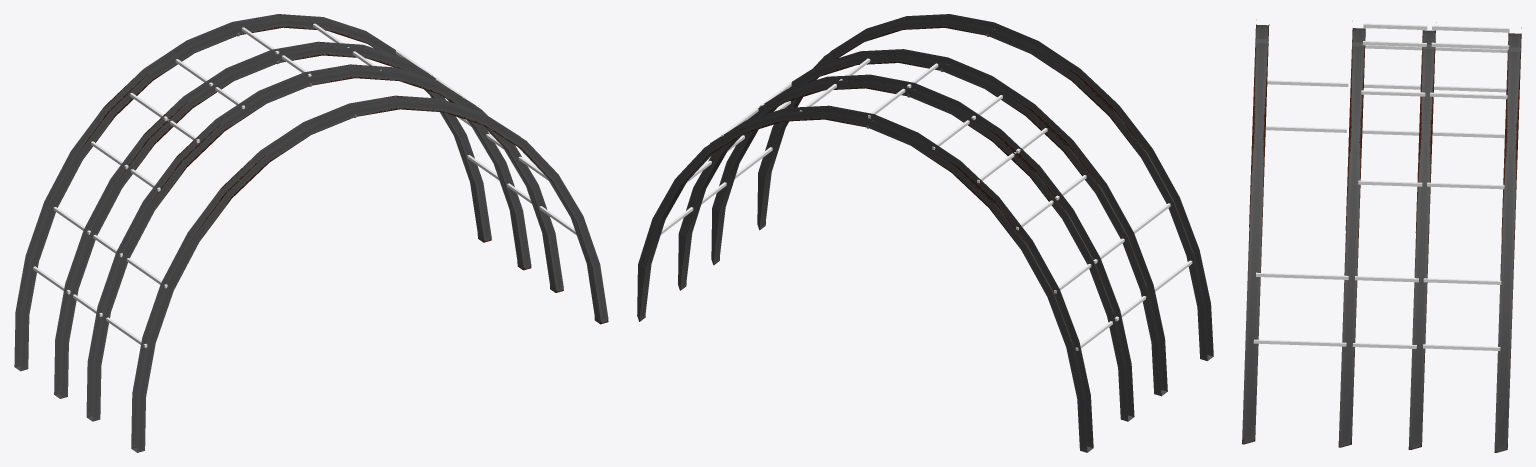
The model's file is 지보_Baked.fbx.
The picture shows the model from 3 angles, left to right: view 1: azimuth 30°, elevation 25°; view 2: azimuth 150°, elevation 25°; view 3: azimuth 270°, elevation 25°; orthographic projection. The views are drawn at different scales.
Visible parts, largest first — view 1: Baked Mesh, Baked Mesh 2; view 2: Baked Mesh, Baked Mesh 2; view 3: Baked Mesh, Baked Mesh 2.
Part boxes in pixels (x1=…): Baked Mesh: x1=14, y1=14, x2=608, y2=452; Baked Mesh 2: x1=33, y1=23, x2=576, y2=347; Baked Mesh: x1=637, y1=14, x2=1213, y2=452; Baked Mesh 2: x1=661, y1=58, x2=1192, y2=350; Baked Mesh: x1=1242, y1=19, x2=1521, y2=452; Baked Mesh 2: x1=1253, y1=23, x2=1509, y2=350.
Bounding box in the file's own units: 1090 × 655 × 532.
2 materials, 1 textured.
